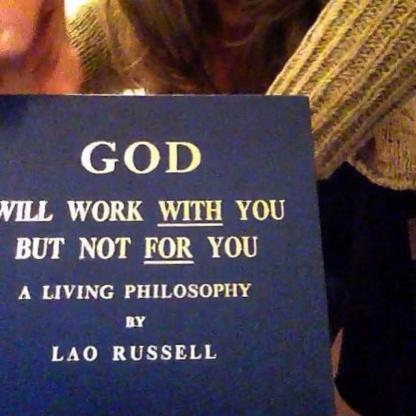book: (0, 95, 339, 416)
